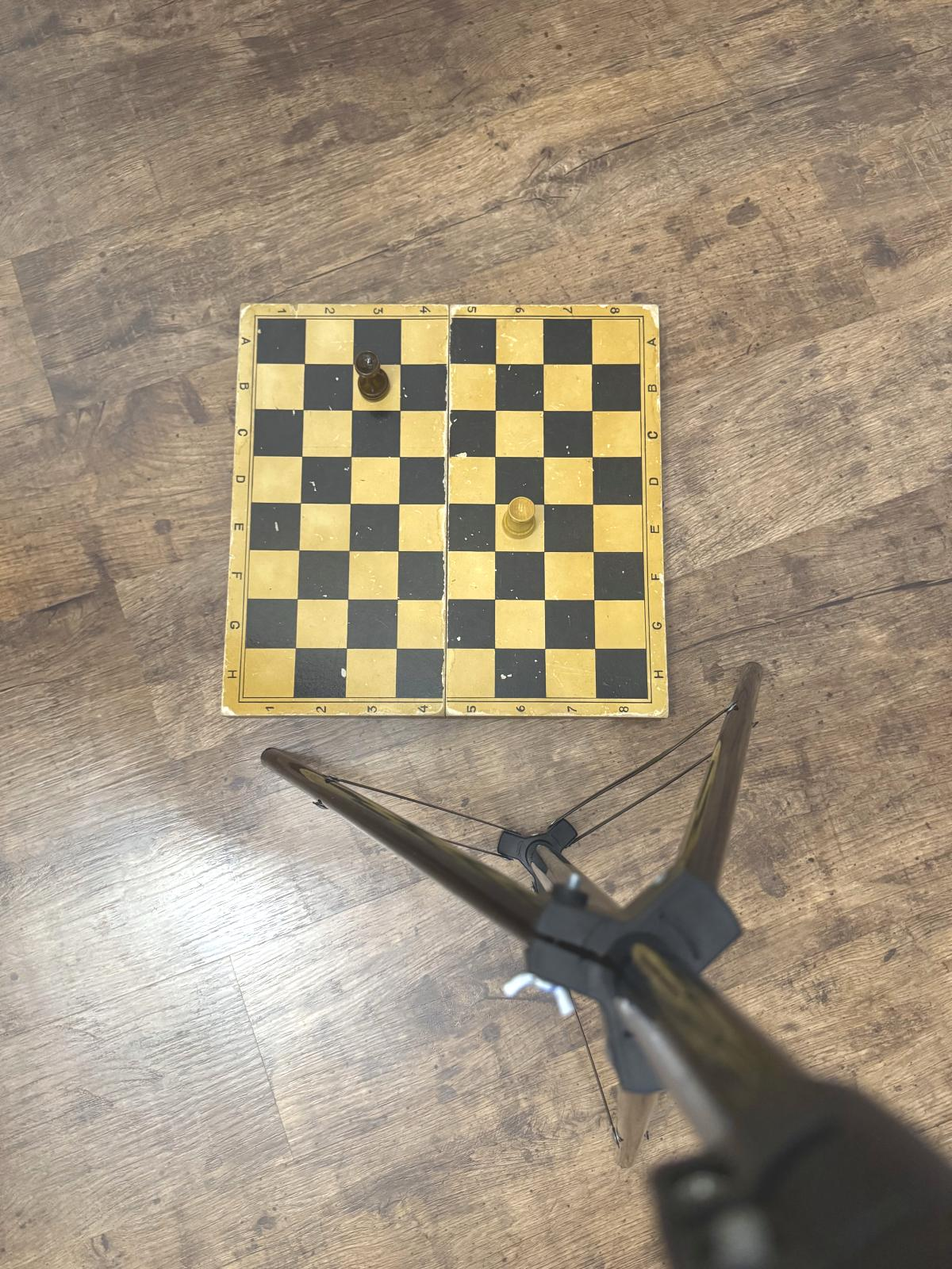Chess-Board: (243, 319, 648, 699)
